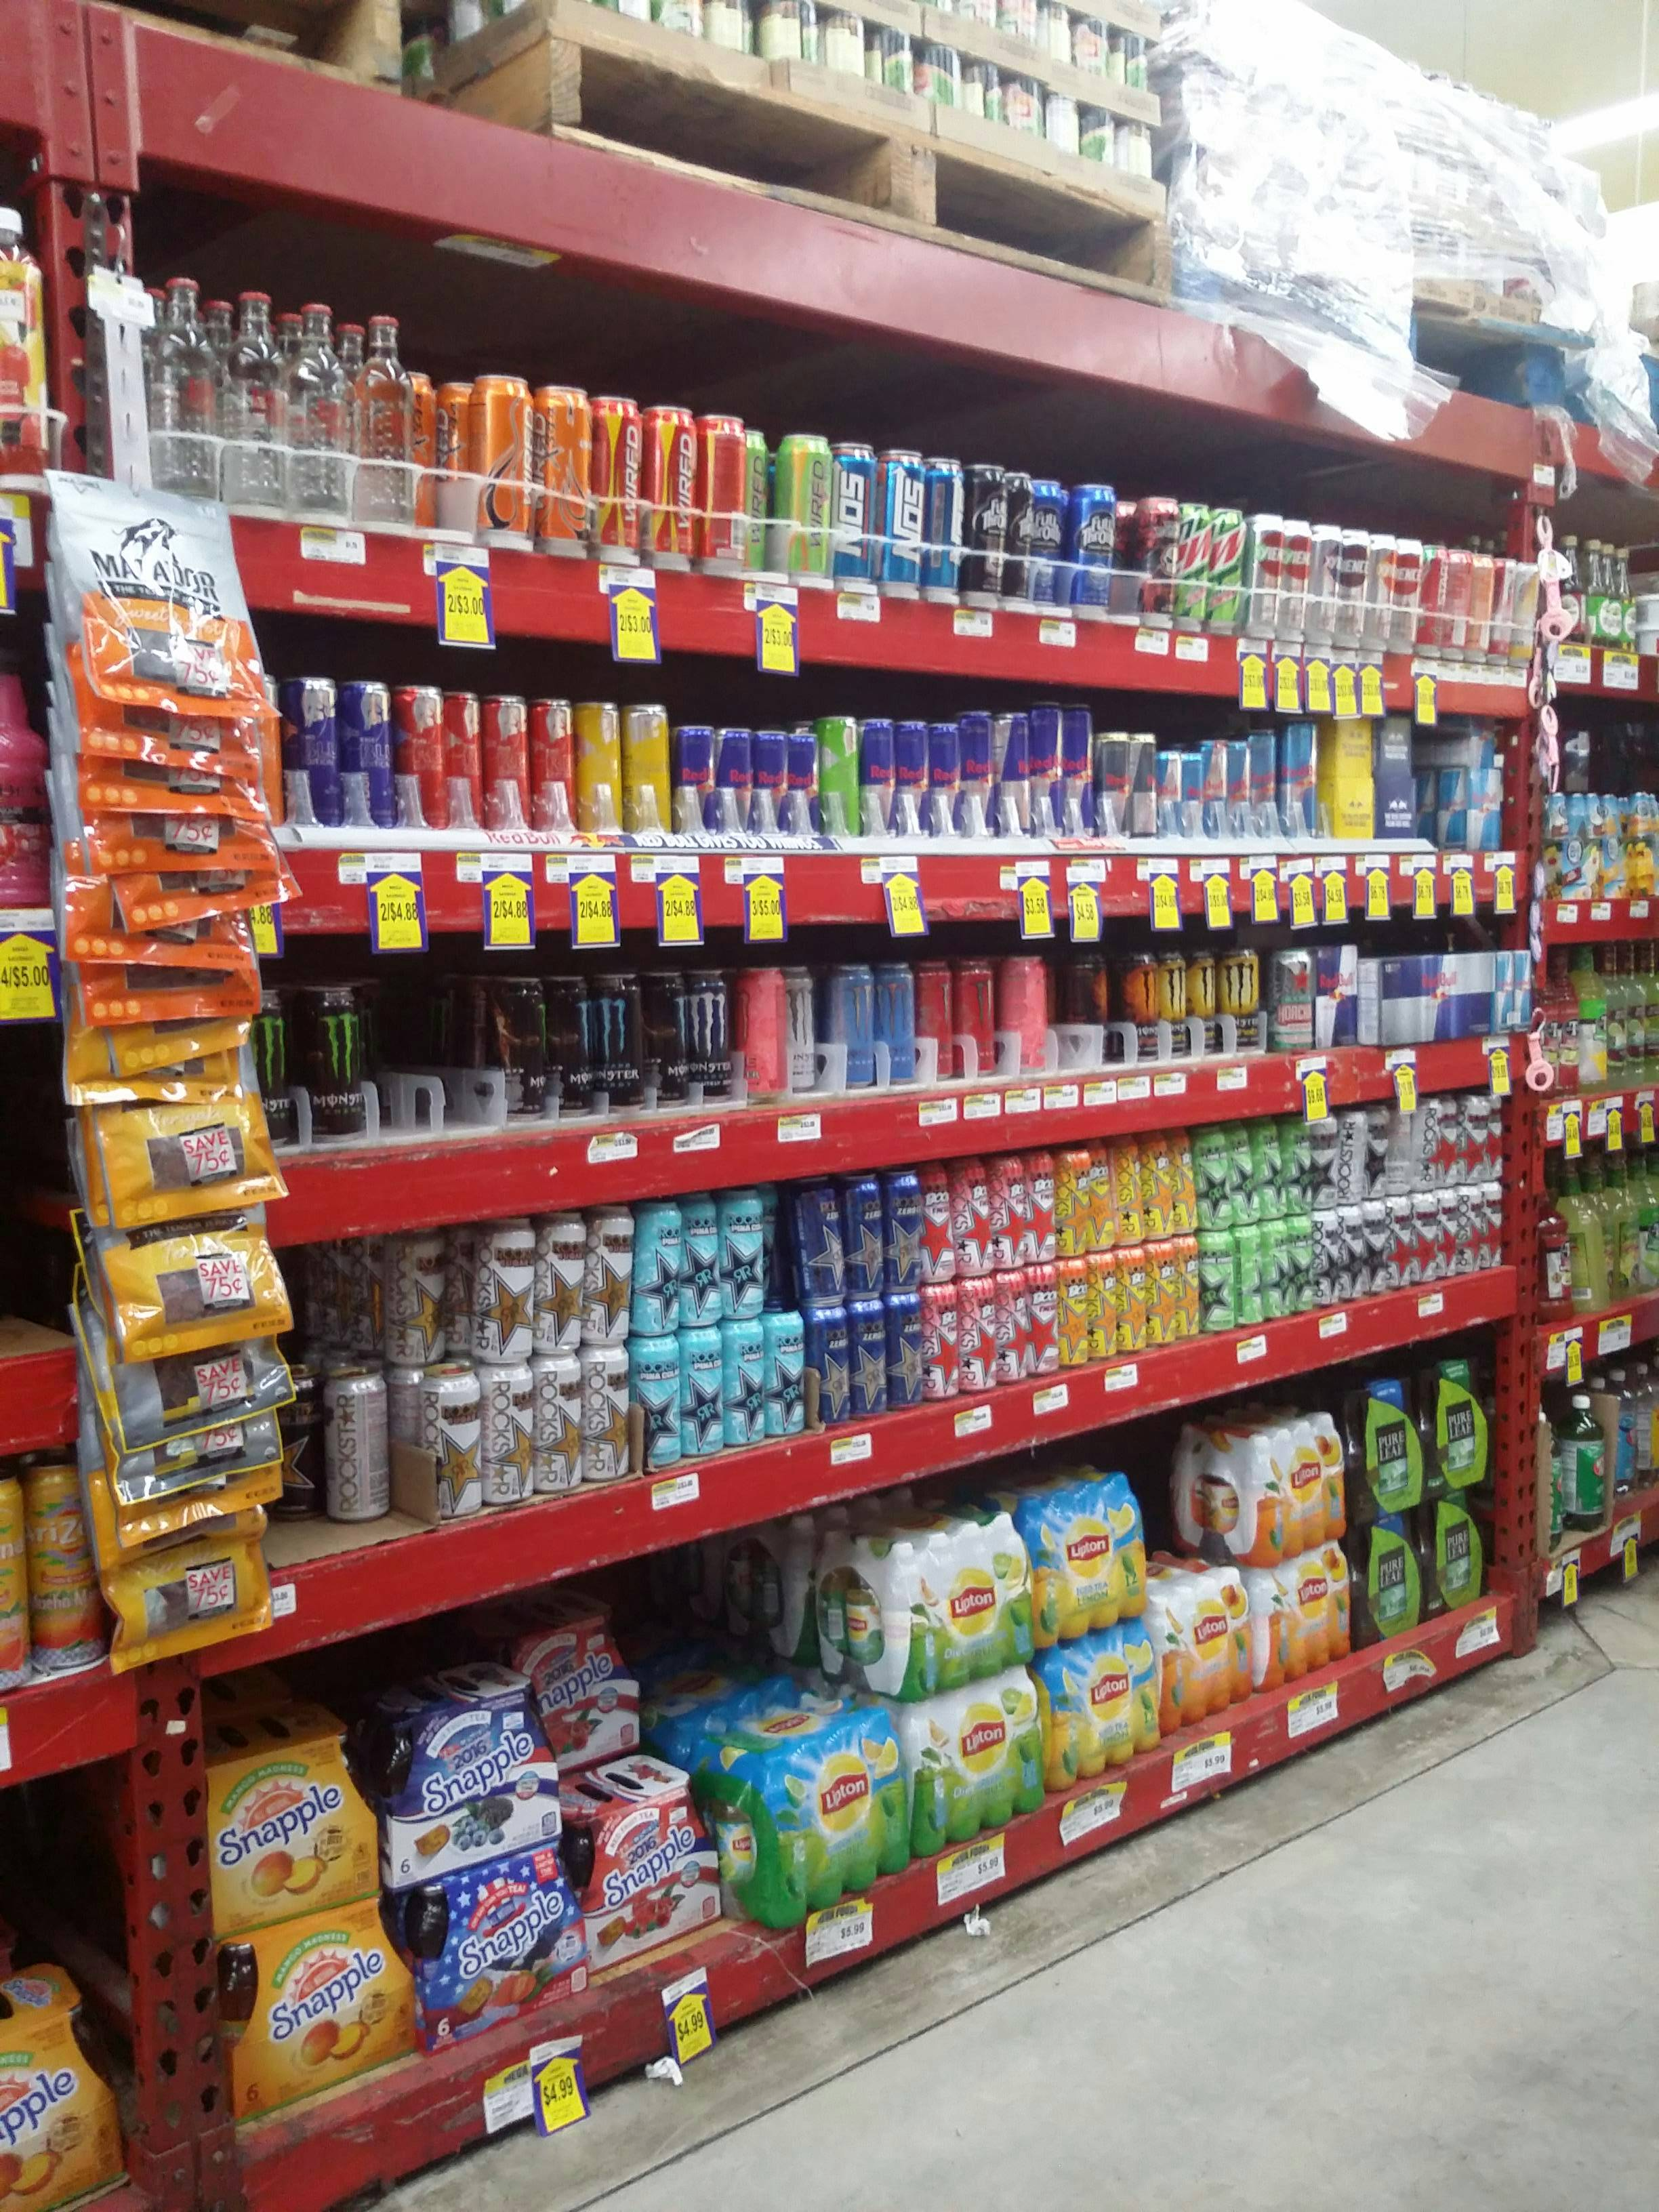Misplacement: (486, 1622, 674, 1806), (1143, 1435, 1256, 1742), (387, 1224, 483, 1527), (321, 1369, 437, 1548), (749, 1188, 809, 1453)
Out-of-stock: (362, 984, 497, 1136)
